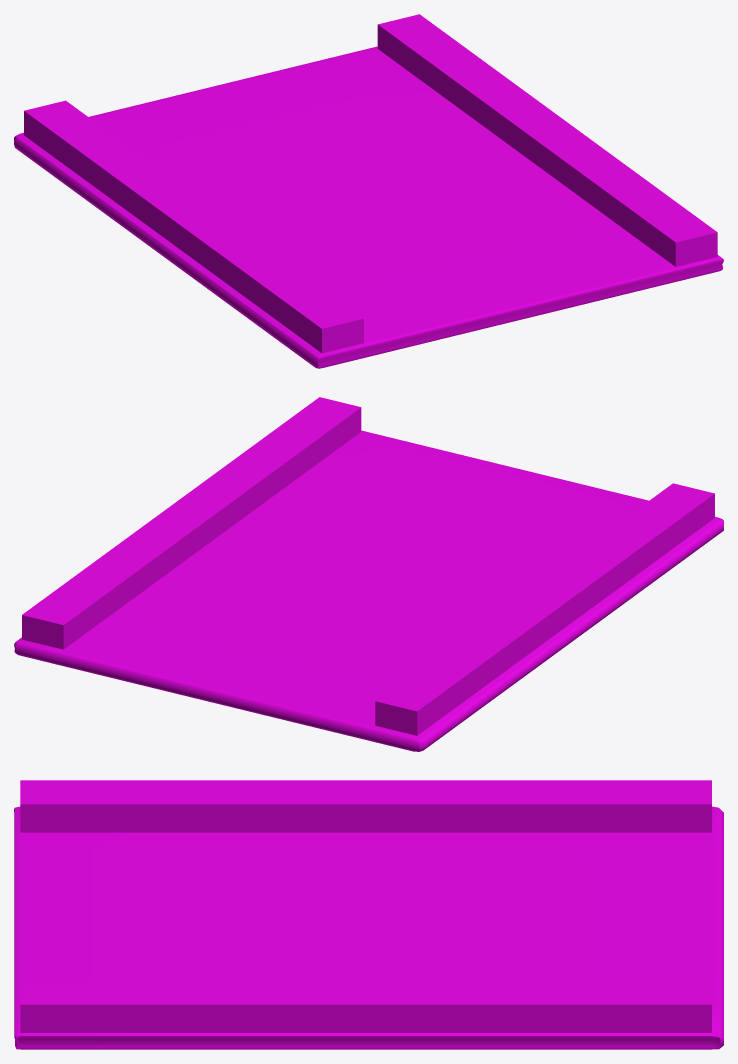
Rendered from Book_mesh.fbx.
3 renders of one model, top to bottom at view 1: azimuth 30°, elevation 25°; view 2: azimuth 150°, elevation 25°; view 3: azimuth 270°, elevation 25°, orthographic. The views are drawn at different scales.
Parts seen in each view (by area): view 1: Book; view 2: Book; view 3: Book.
Part boxes in pixels (x1,y1,x2,y2): Book: (14, 14, 723, 368); Book: (14, 397, 723, 751); Book: (14, 780, 723, 1049).
Bounding box in the file's own units: 17.45 × 1.57 × 22.61.
